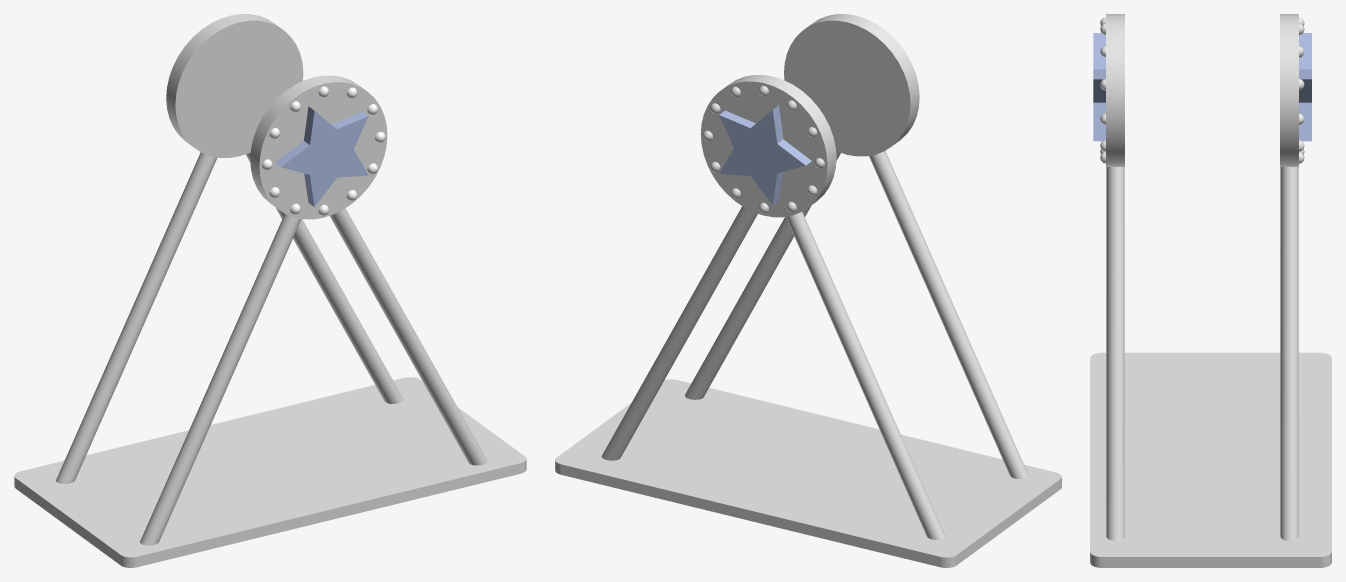
Rendered from FerrisWheel.glb.
3 views of the same model, side by side, from view 1: azimuth 30°, elevation 25°; view 2: azimuth 150°, elevation 25°; view 3: azimuth 270°, elevation 25° (orthographic). The views are drawn at different scales.
Visible parts, largest first — view 1: FerrisWheel00, FerrisWheel01, Star01; view 2: FerrisWheel00, FerrisWheel01, Star02, Light05; view 3: FerrisWheel00, FerrisWheel01, Star02, Star01, Light05.
Part boxes in pixels (x1,y1,x2,y2): FerrisWheel00: [14, 377, 526, 567]; FerrisWheel01: [56, 14, 487, 545]; Star01: [275, 106, 368, 206]; FerrisWheel00: [555, 379, 1061, 567]; FerrisWheel01: [601, 14, 1028, 539]; Star02: [719, 105, 811, 204]; Light05: [702, 85, 824, 213]; FerrisWheel00: [1090, 352, 1331, 567]; FerrisWheel01: [1106, 14, 1298, 540]; Star02: [1299, 33, 1311, 141]; Star01: [1093, 33, 1105, 141]; Light05: [1299, 17, 1304, 163].
Size of the model in its own units: 2 by 2.04 by 1.
